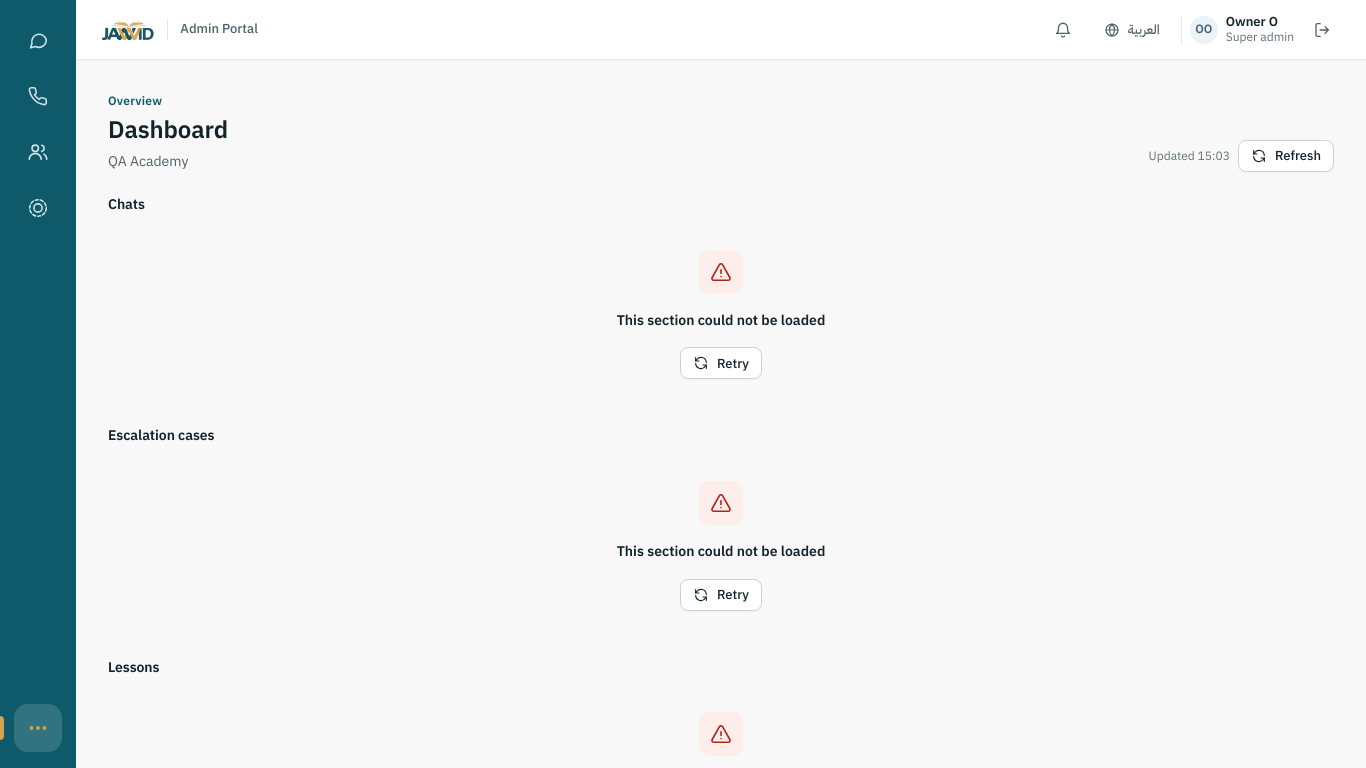
Scenario: Dashboard › keeps earlier figures only under an explicit "couldn’t refresh" warning
Check: the text "Couldn’t refresh" is not shown
Click the button "Refresh": [1286, 156] box [1238,140,1334,172]
(page scrolled)
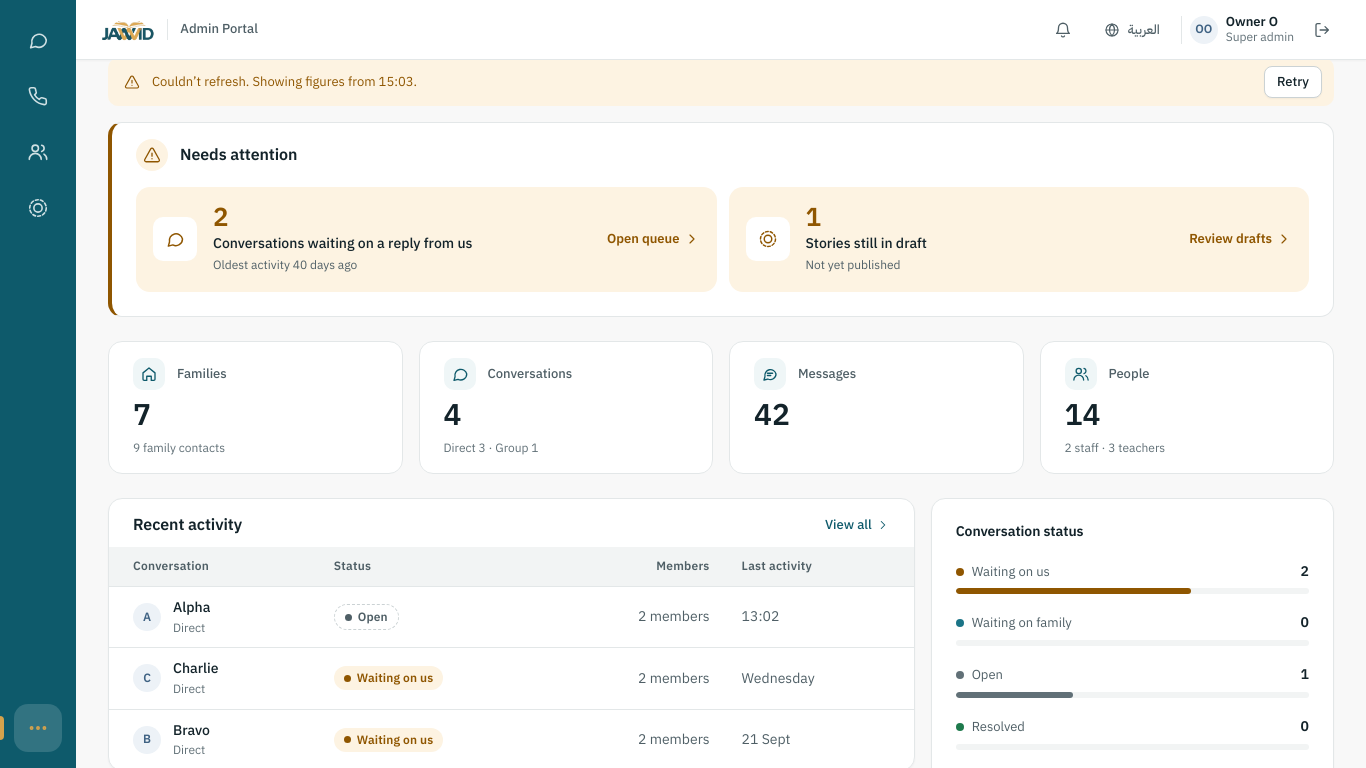
Check: the text "Couldn’t refresh. Showing figures from 15:03." is shown, box [152,72,417,91]
Check: the text "42" is shown, box [754,392,790,437]
